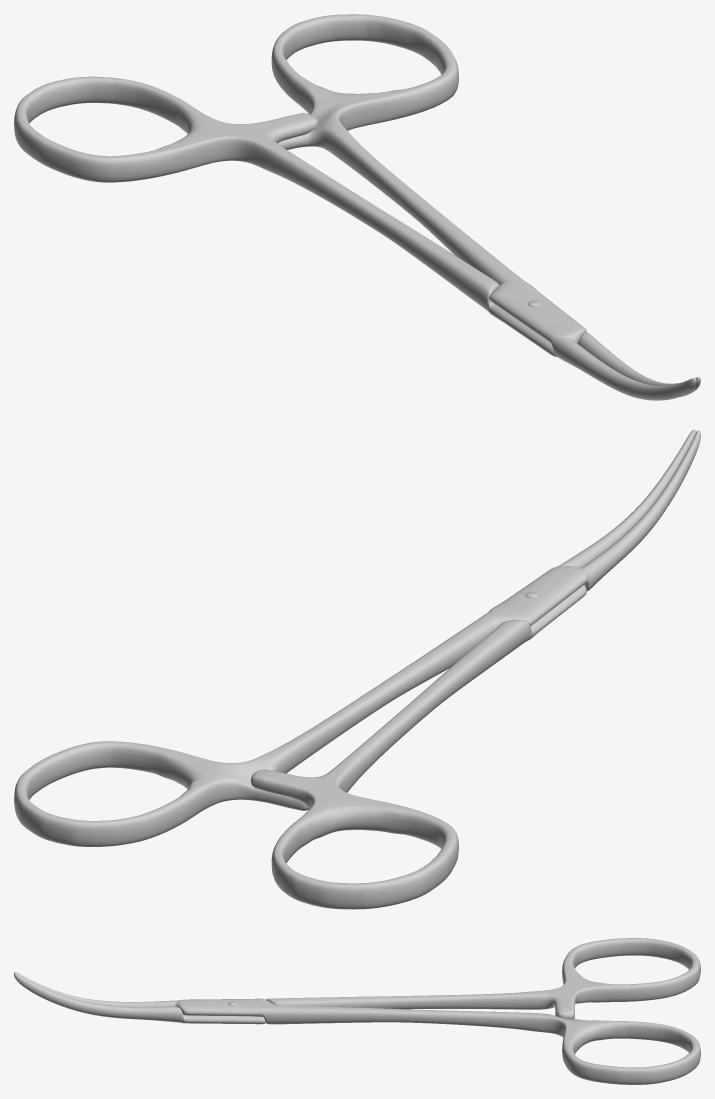
File: KimKocher.fbx
3 views of the same model, one above another, from view 1: azimuth 30°, elevation 25°; view 2: azimuth 150°, elevation 25°; view 3: azimuth 270°, elevation 25° (orthographic). The views are drawn at different scales.
Parts seen in each view (by area): view 1: KimKocher; view 2: KimKocher; view 3: KimKocher.
Part boxes in pixels (<box>): KimKocher: <box>14,14,700,400</box>; KimKocher: <box>14,429,700,909</box>; KimKocher: <box>14,938,700,1084</box>.
Bounding box in the file's own units: 6.43 × 1.07 × 14.
1 material, 1 textured.
